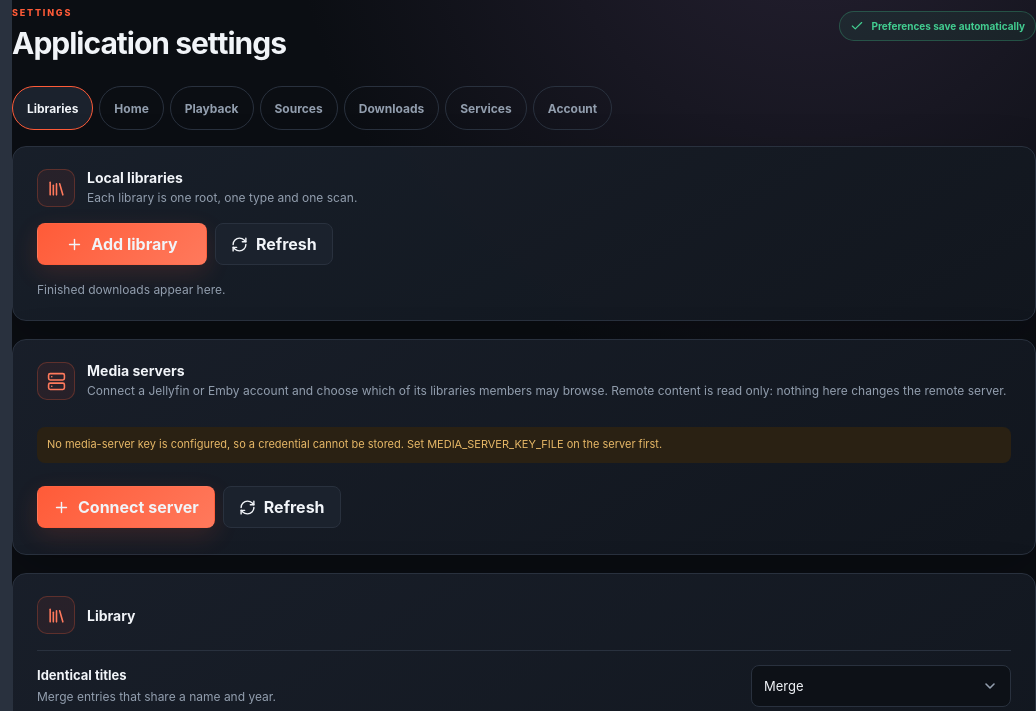
Test: SettingsPage Sources tab › shows the defaults, source order and administrator rules in order
Click the tab "Sources" at (299, 108), box x1=260 y1=86 x2=338 y2=130
(page scrolled)
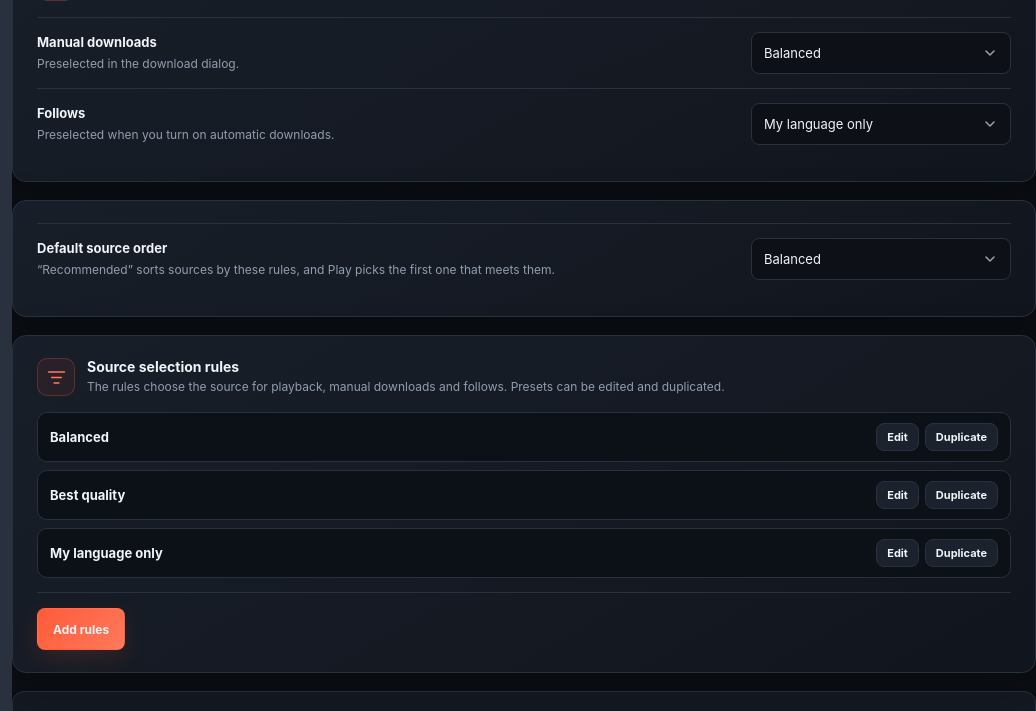
expect the element with class "source-defaults-section" shows "Preselected in the download dialog.": met, box x1=37 y1=56 x2=239 y2=70
expect the element with class "source-defaults-section" shows "Preselected when you turn on automatic downloads.": met, box x1=37 y1=126 x2=334 y2=142
expect the dropdown labelled "Manual downloads Preselected in the download dialog." shows "Balanced": met, box x1=751 y1=32 x2=1011 y2=74
